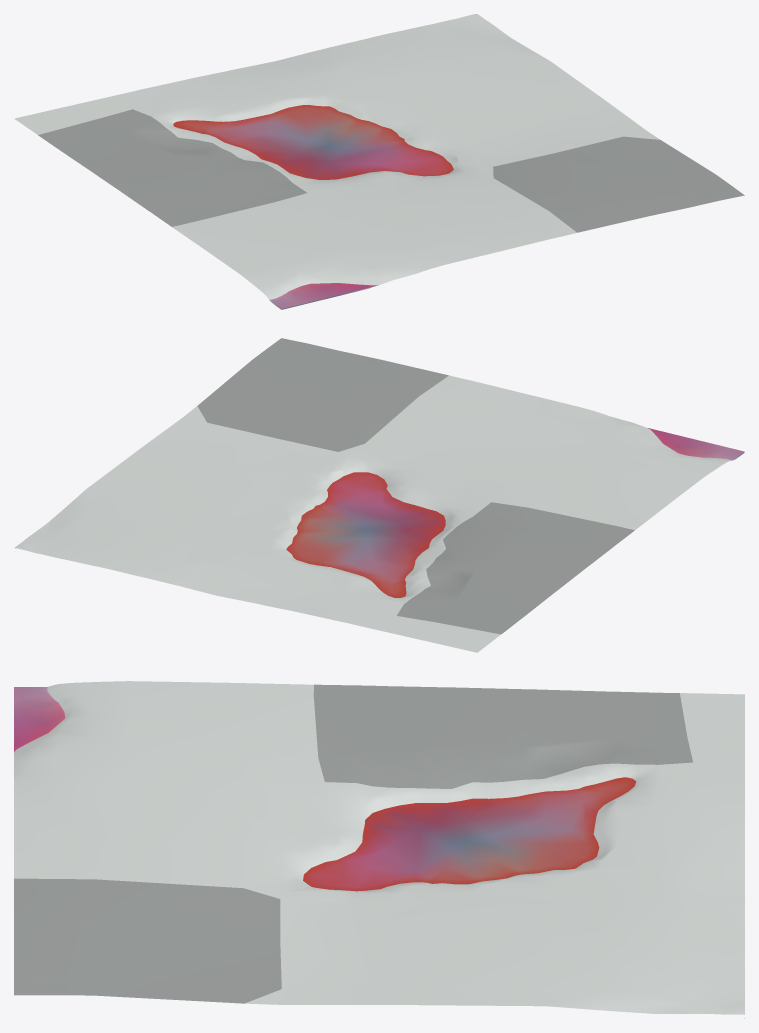
The picture shows the model from 3 angles, top to bottom: view 1: azimuth 30°, elevation 25°; view 2: azimuth 150°, elevation 25°; view 3: azimuth 270°, elevation 25°; orthographic projection. The views are drawn at different scales.
Parts seen in each view (by area): view 1: G:\FFXIV-MapTools\exports\r2f1\bg\ex1\01_roc_r2\fld\r2f1\bgp (×3); view 2: G:\FFXIV-MapTools\exports\r2f1\bg\ex1\01_roc_r2\fld\r2f1\bgp (×3); view 3: G:\FFXIV-MapTools\exports\r2f1\bg\ex1\01_roc_r2\fld\r2f1\bgp (×3).
Boxes of the visible parts, <box> form: G:\FFXIV-MapTools\exports\r2f1\bg\ex1\01_roc_r2\fld\r2f1\bgp (×3): <box>14,14,744,308</box>; G:\FFXIV-MapTools\exports\r2f1\bg\ex1\01_roc_r2\fld\r2f1\bgp (×3): <box>14,338,744,652</box>; G:\FFXIV-MapTools\exports\r2f1\bg\ex1\01_roc_r2\fld\r2f1\bgp (×3): <box>14,681,744,1014</box>.
Size of the model in its own units: 128 by 5.56 by 128.
